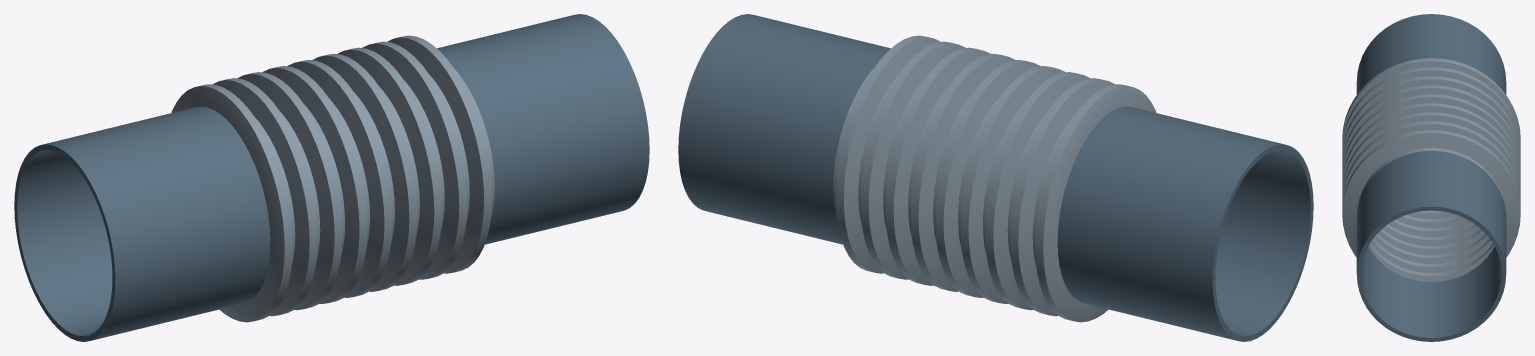
The model's file is silf-dn150-L485-D159.glb.
3 views of the same model, side by side, from view 1: azimuth 30°, elevation 25°; view 2: azimuth 150°, elevation 25°; view 3: azimuth 270°, elevation 25° (orthographic). The views are drawn at different scales.
Visible parts, largest first — view 1: prokladka_silfon_1, patrubok_1, patrubok_2; view 2: prokladka_silfon_1, patrubok_1, patrubok_2; view 3: prokladka_silfon_1, patrubok_2, patrubok_1.
Part boxes in pixels (bbox=[...]): prokladka_silfon_1: bbox=[171, 35, 494, 322]; patrubok_1: bbox=[14, 106, 270, 341]; patrubok_2: bbox=[437, 14, 649, 244]; prokladka_silfon_1: bbox=[833, 35, 1156, 322]; patrubok_1: bbox=[1057, 106, 1313, 341]; patrubok_2: bbox=[678, 14, 890, 244]; prokladka_silfon_1: bbox=[1342, 58, 1520, 282]; patrubok_2: bbox=[1356, 150, 1506, 341]; patrubok_1: bbox=[1356, 14, 1506, 94].
Size of the model in its own units: 485 by 190 by 190.
